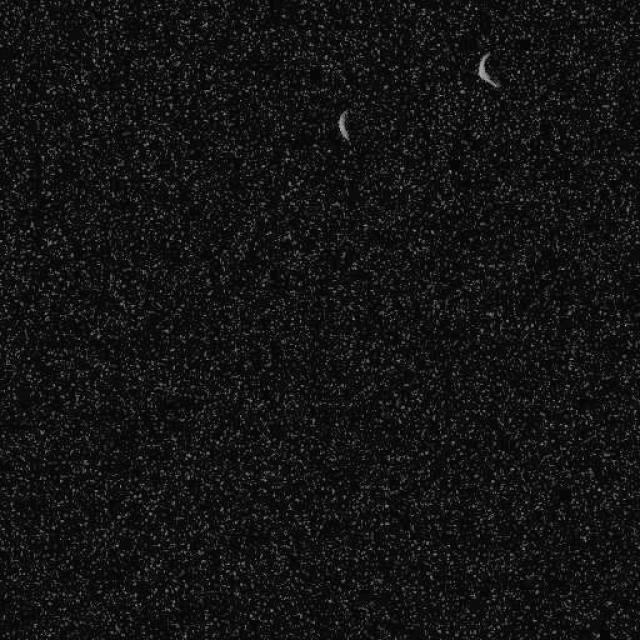D2: (475, 49, 501, 90), (336, 108, 352, 142)
